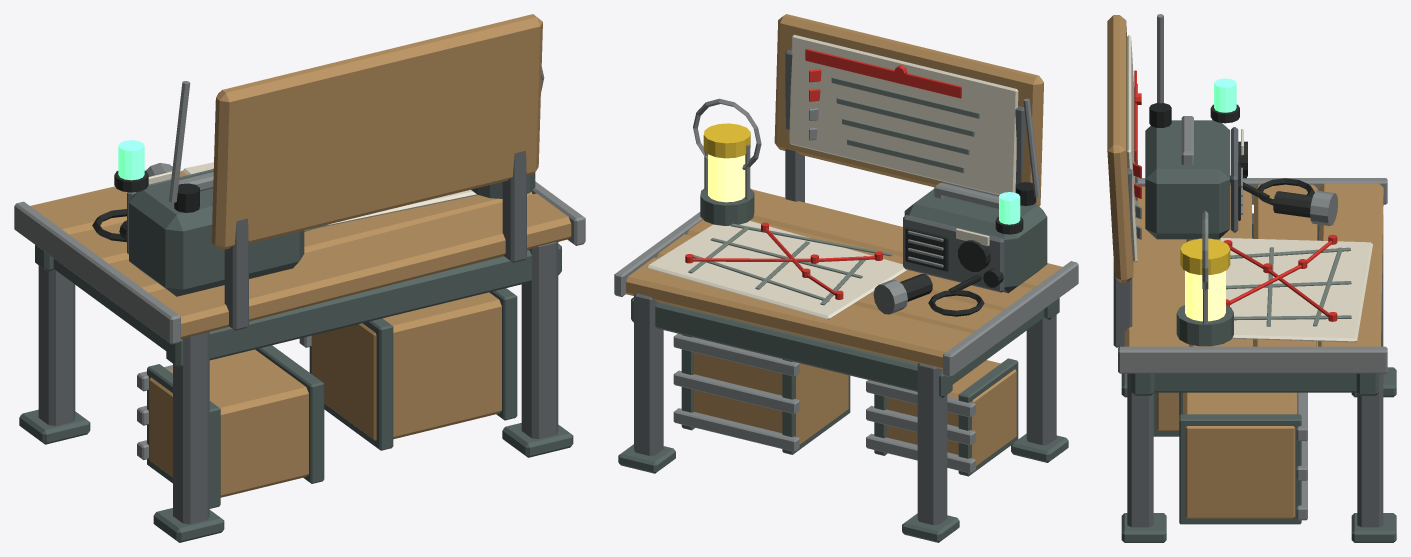
The model's file is hub.glb.
The picture shows the model from 3 angles, left to right: view 1: azimuth 30°, elevation 25°; view 2: azimuth 150°, elevation 25°; view 3: azimuth 270°, elevation 25°; orthographic projection. The views are drawn at different scales.
Parts seen in each view (by area): view 1: hub, Lamp; view 2: hub, Lamp; view 3: hub, Lamp.
Boxes of the visible parts, x1,y1,x2,y2 form: hub: [14, 14, 585, 542]; Lamp: [118, 140, 144, 180]; hub: [614, 14, 1078, 542]; Lamp: [999, 192, 1020, 224]; hub: [1107, 14, 1396, 542]; Lamp: [1214, 78, 1236, 112].
Bounding box in the file's own units: 1.68 × 1.68 × 1.16.
